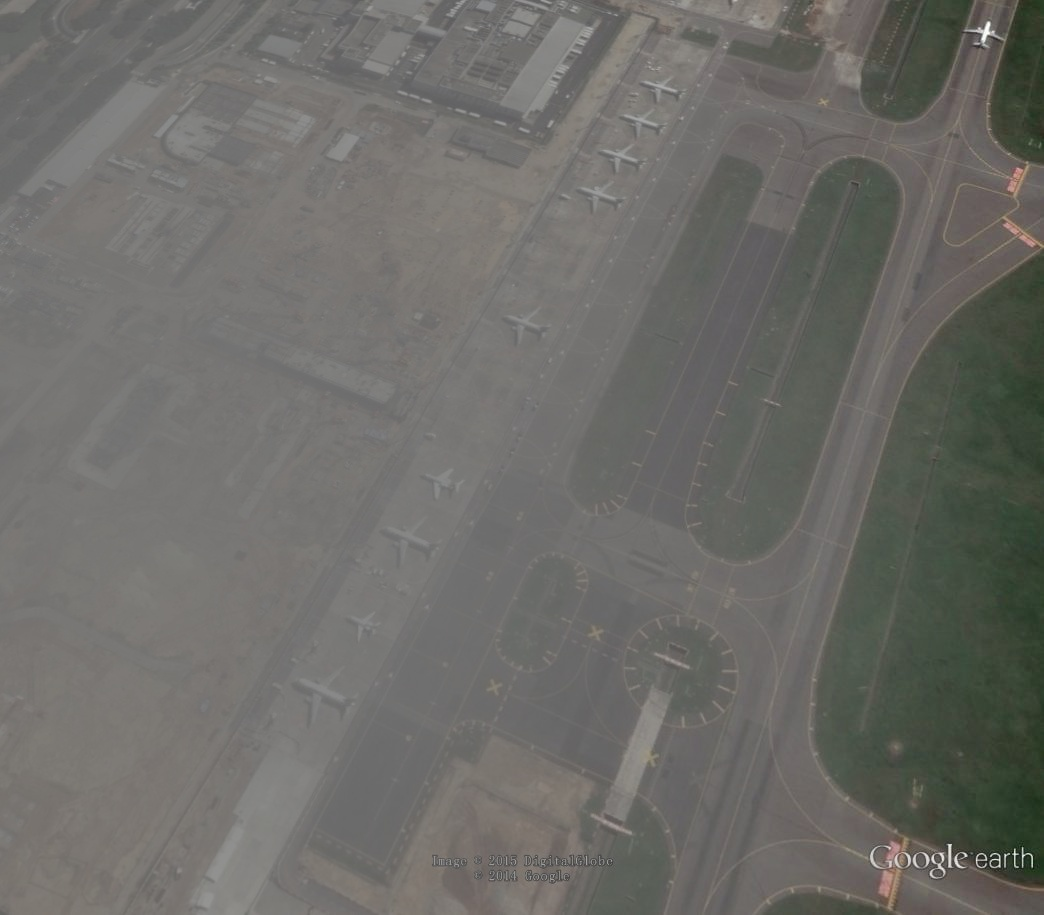aircraft: (289, 663, 363, 729), (375, 513, 448, 568), (502, 306, 555, 348), (573, 180, 630, 217), (415, 465, 468, 504), (595, 142, 654, 177), (618, 108, 670, 142), (637, 75, 691, 106), (961, 18, 1008, 52), (345, 609, 384, 643)
